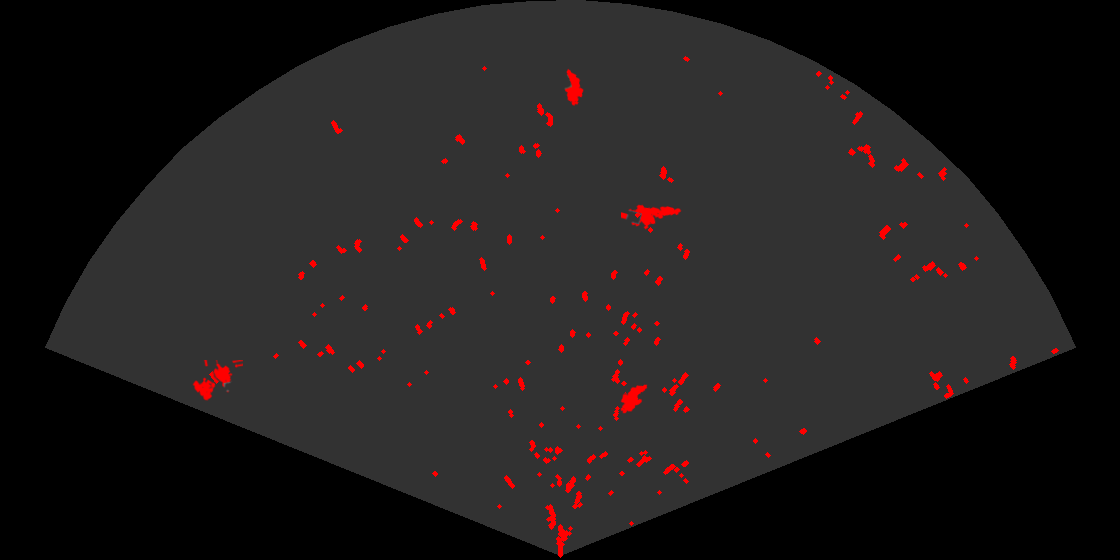AUV: (619, 383, 649, 415), (563, 67, 585, 108)
cage: (191, 360, 243, 402)
frogman: (621, 203, 682, 231)
